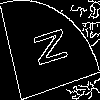N: (25, 25, 69, 72)
